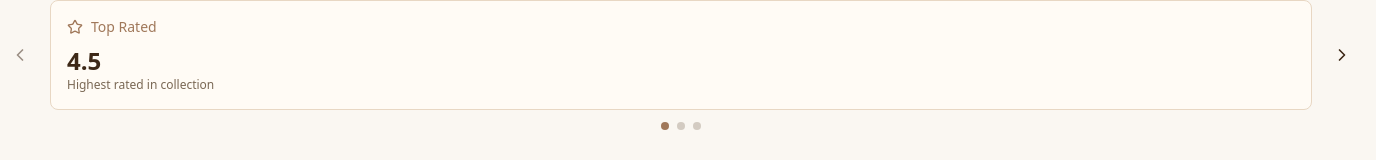
Scenario: StatsCarousel › Auto-play › does not interfere with manual navigation
This screenshot has width=1376, height=160.
Expected: the element showing "Top Rated 4.5 Highest rated in collection" is shown, [67, 17, 214, 93]
# Manual navigation to next slide
Click the button named "next" at (1342,55), box [1320, 37, 1364, 73]
Wait 10600 ms
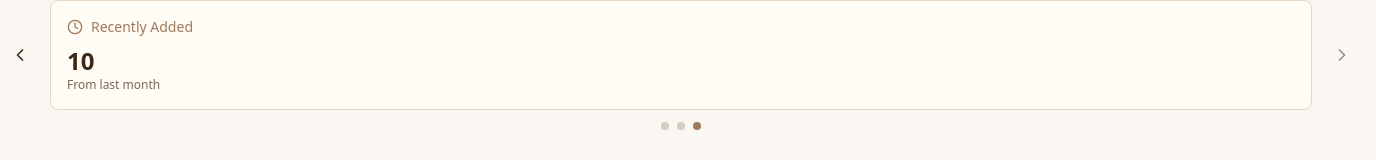
Expected: the element showing "Recently Added 10 From last month" is shown, [67, 17, 193, 93]
